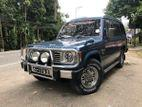car: (19, 15, 130, 96)
